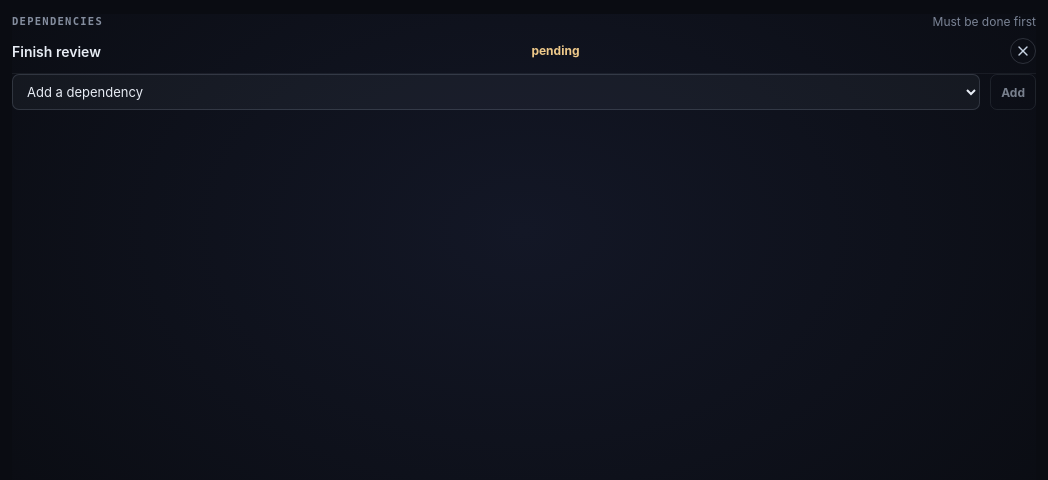
Test case: TaskDependencies › clears the error and reloads when a retry succeeds
This screenshot has width=1048, height=480.
Click the button named "Remove dependency Finish review" at (1023, 51), box 1010,38 -> 1036,64
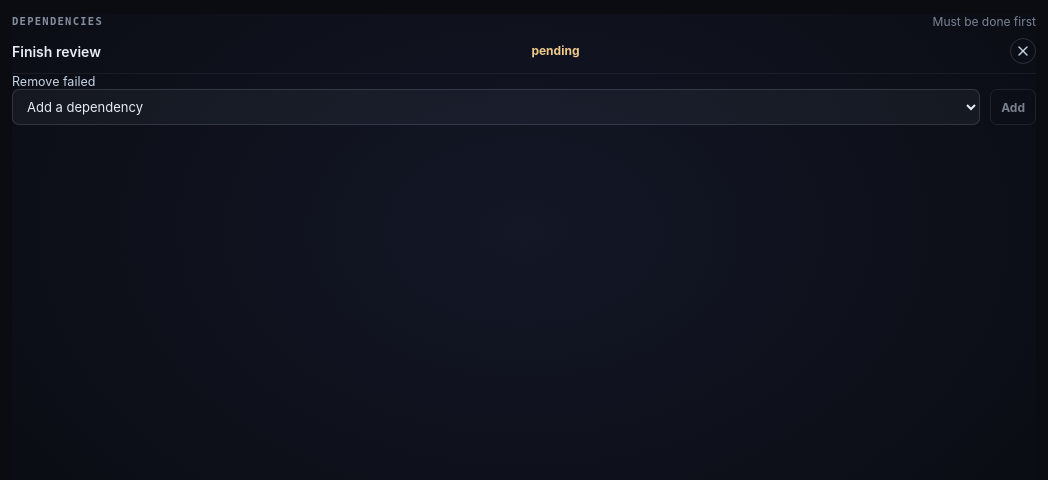
Now the message reads "Remove failed", box 12,74 -> 95,89
Click the button named "Remove dependency Finish review" at (1023, 51), box 1010,38 -> 1036,64
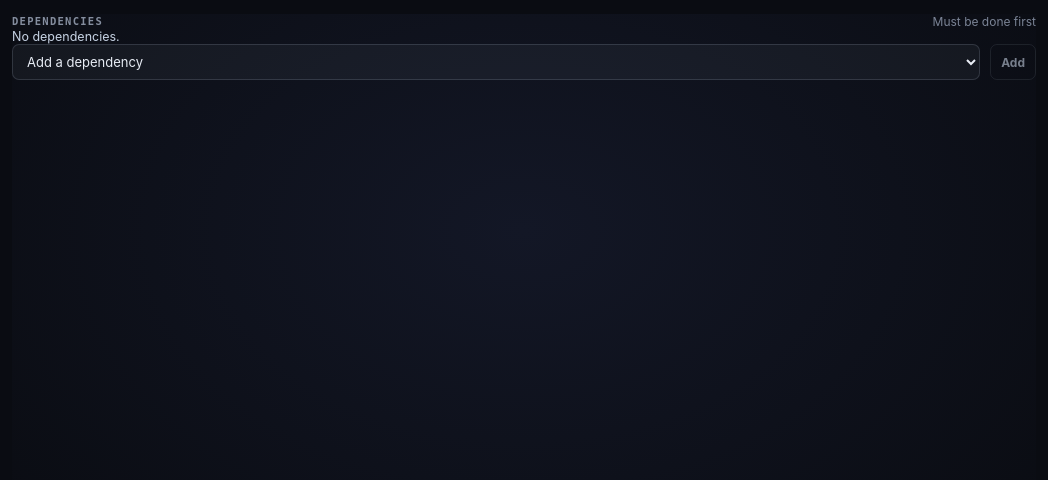
Now the message "Remove failed" is gone
Now the link "Finish review" is gone
